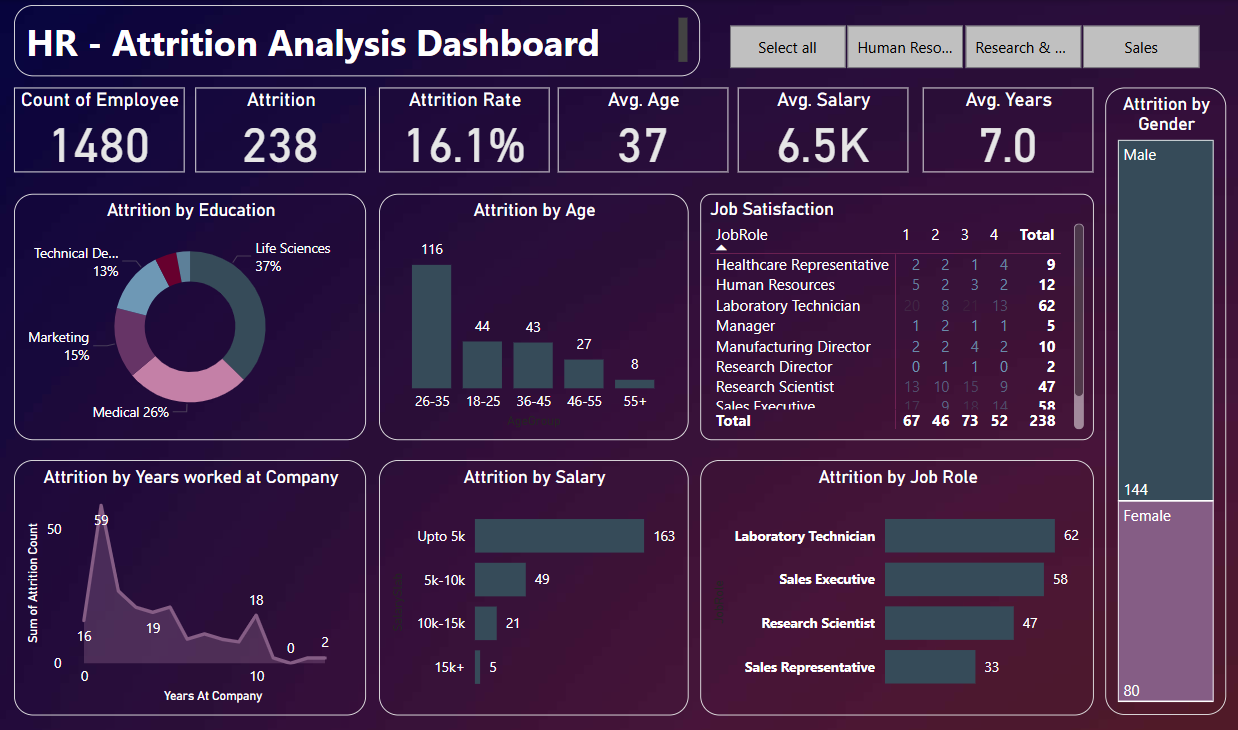

The dashboard page shown, as its layout file describes it:
{"tool":"powerbi","page":{"name":"Page 1","canvas":[1100,650],"ordinal":0},"visuals":[{"type":"card","title":"Count of Employee","fields":{"Values":["CountNonNull(HR_Analytics.EmpID)"]},"box":[13,78,151,75],"z":0},{"type":"card","title":"Attrition","fields":{"Values":["Sum(HR_Analytics.AttritionCount)"]},"box":[174,78,151,75],"z":1000},{"type":"card","title":"Attrition Rate","fields":{"Values":["HR_Analytics.AttritionRate"]},"box":[337,78,151,75],"z":2000},{"type":"card","title":"Avg. Age","fields":{"Values":["Avg(HR_Analytics.Age)"]},"box":[495,78,151,75],"z":3000},{"type":"card","title":"Avg. Salary","fields":{"Values":["Avg(HR_Analytics.MonthlyIncome)"]},"box":[655,78,151,75],"z":4000},{"type":"card","title":"Avg. Years","fields":{"Values":["Avg(HR_Analytics.YearsAtCompany)"]},"box":[819,78,151,75],"z":5000},{"type":"donutChart","title":"Attrition by Education","fields":{"Category":["HR_Analytics.EducationField"],"Y":["Sum(HR_Analytics.AttritionCount)"]},"box":[13,172,312,218],"z":6000},{"type":"columnChart","title":"Attrition by Age","fields":{"Y":["Sum(HR_Analytics.AttritionCount)"],"Category":["HR_Analytics.AgeGroup"]},"box":[337,172,274,218],"z":7000},{"type":"pivotTable","title":"Job Satisfaction","fields":{"Rows":["HR_Analytics.JobRole"],"Columns":["HR_Analytics.JobSatisfaction"],"Values":["Sum(HR_Analytics.AttritionCount)"]},"box":[621,172,349,218],"z":8000},{"type":"barChart","title":"Attrition by Salary","fields":{"Category":["HR_Analytics.SalarySlab"],"Y":["Sum(HR_Analytics.AttritionCount)"]},"box":[337,408,274,226],"z":9000},{"type":"barChart","title":"Attrition by Job Role","fields":{"Category":["HR_Analytics.JobRole"],"Y":["Sum(HR_Analytics.AttritionCount)"]},"box":[621,408,349,226],"z":10000},{"type":"areaChart","title":"Attrition by Years worked at Company","fields":{"Y":["Sum(HR_Analytics.AttritionCount)"],"Category":["HR_Analytics.YearsAtCompany"]},"box":[13,408,312,226],"z":11000},{"type":"treemap","title":"Attrition by Gender","fields":{"Group":["HR_Analytics.Gender"],"Values":["Sum(HR_Analytics.AttritionCount)"]},"box":[980,78,107,556],"z":12000},{"type":"slicer","fields":{"Values":["HR_Analytics.Department"]},"box":[621,15,466,52],"z":13000},{"type":"textbox","box":[13,4,608,63],"z":14000}]}

Visuals, with their boxes in screenshot pixels (x1, y1, x2, y2), scaled from the page's 1100x650 canvas onto the 1238x730 screenshot:
"Count of Employee" card: 15:88:185:172
"Attrition" card: 196:88:366:172
"Attrition Rate" card: 379:88:549:172
"Avg. Age" card: 557:88:727:172
"Avg. Salary" card: 737:88:907:172
"Avg. Years" card: 922:88:1092:172
"Attrition by Education" donutChart: 15:193:366:438
"Attrition by Age" columnChart: 379:193:688:438
"Job Satisfaction" pivotTable: 699:193:1092:438
"Attrition by Salary" barChart: 379:458:688:712
"Attrition by Job Role" barChart: 699:458:1092:712
"Attrition by Years worked at Company" areaChart: 15:458:366:712
"Attrition by Gender" treemap: 1103:88:1223:712
slicer - HR_Analytics.Department: 699:17:1223:75
textbox: 15:4:699:75
